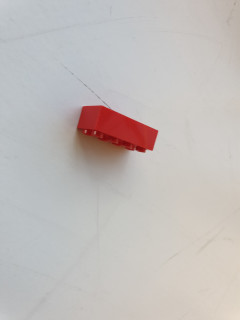2x4 red: (74, 102, 164, 164)
